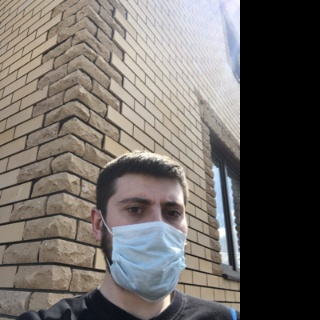with_mask: (104, 188, 187, 304)
